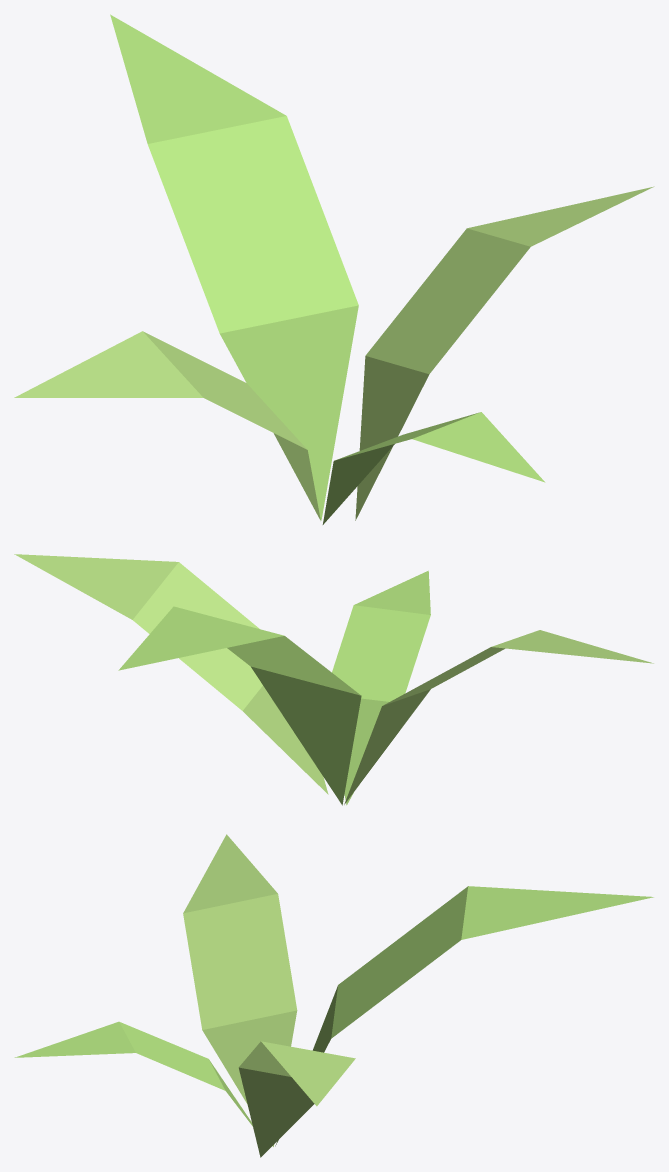
Rendered from Plant_b_OneS_05.fbx.
3 renders of one model, top to bottom at view 1: azimuth 30°, elevation 25°; view 2: azimuth 150°, elevation 25°; view 3: azimuth 270°, elevation 25°, orthographic. The views are drawn at different scales.
Parts seen in each view (by area): view 1: Plant_b_OneS_05; view 2: Plant_b_OneS_05; view 3: Plant_b_OneS_05.
Part boxes in pixels (x1,y1,x2,y2): Plant_b_OneS_05: [14, 14, 654, 524]; Plant_b_OneS_05: [14, 554, 653, 805]; Plant_b_OneS_05: [14, 834, 653, 1157].
Size of the model in its own units: 0.9268 by 0.4168 by 0.9215.
